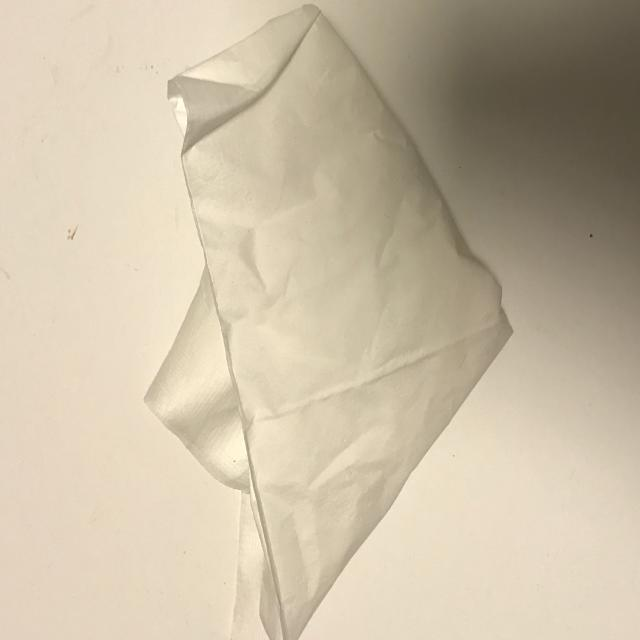trash: (143, 2, 514, 640)
